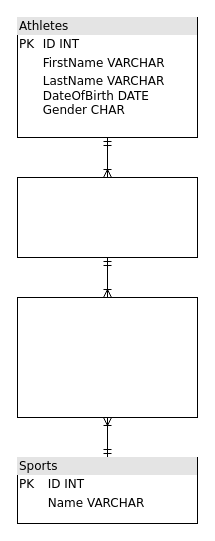
This 215x541 diagram has some shape labels left out. Each missing label, with the centre of its shape:
"Competitions PK ID INT FK1 SportID INT Name VARCHAR DateHeld DATE Venue VARCHAR" goes at [107,357].
"Results PK ID INT FK1 CompetitionID INT FK2 AthleteID INT" goes at [107,217].
